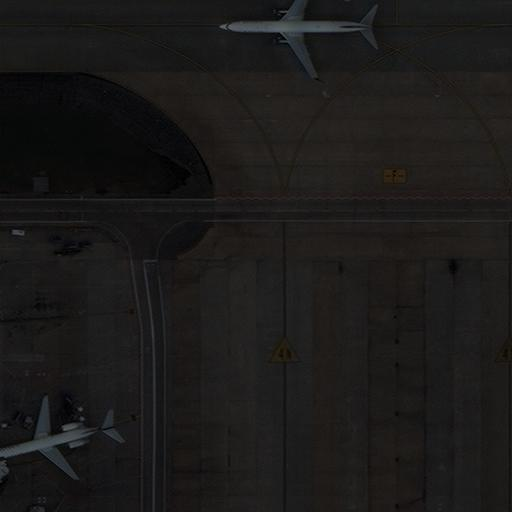Medium Civil Transport: (215, 0, 374, 79), (0, 399, 118, 480)
